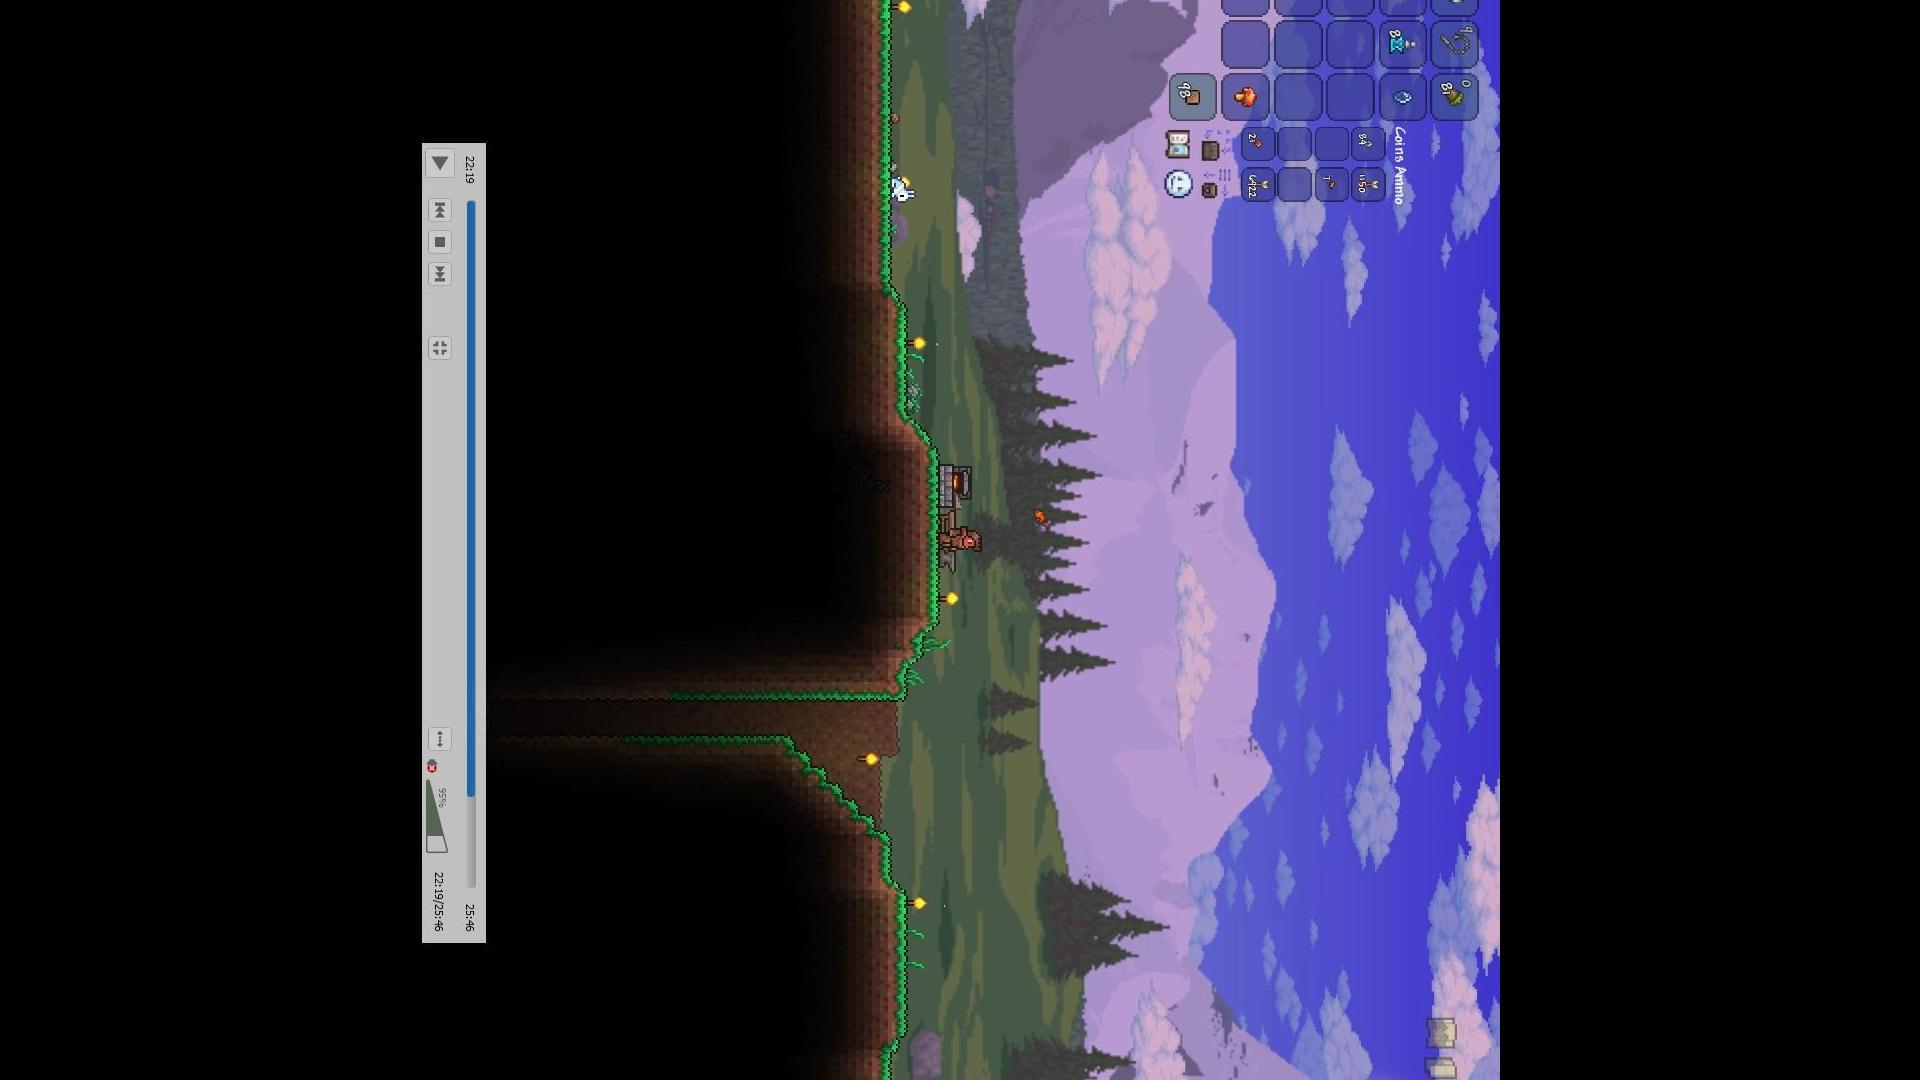anvil: (931, 549, 959, 576)
furnace: (934, 463, 975, 513)
recallP: (1385, 33, 1418, 55)
